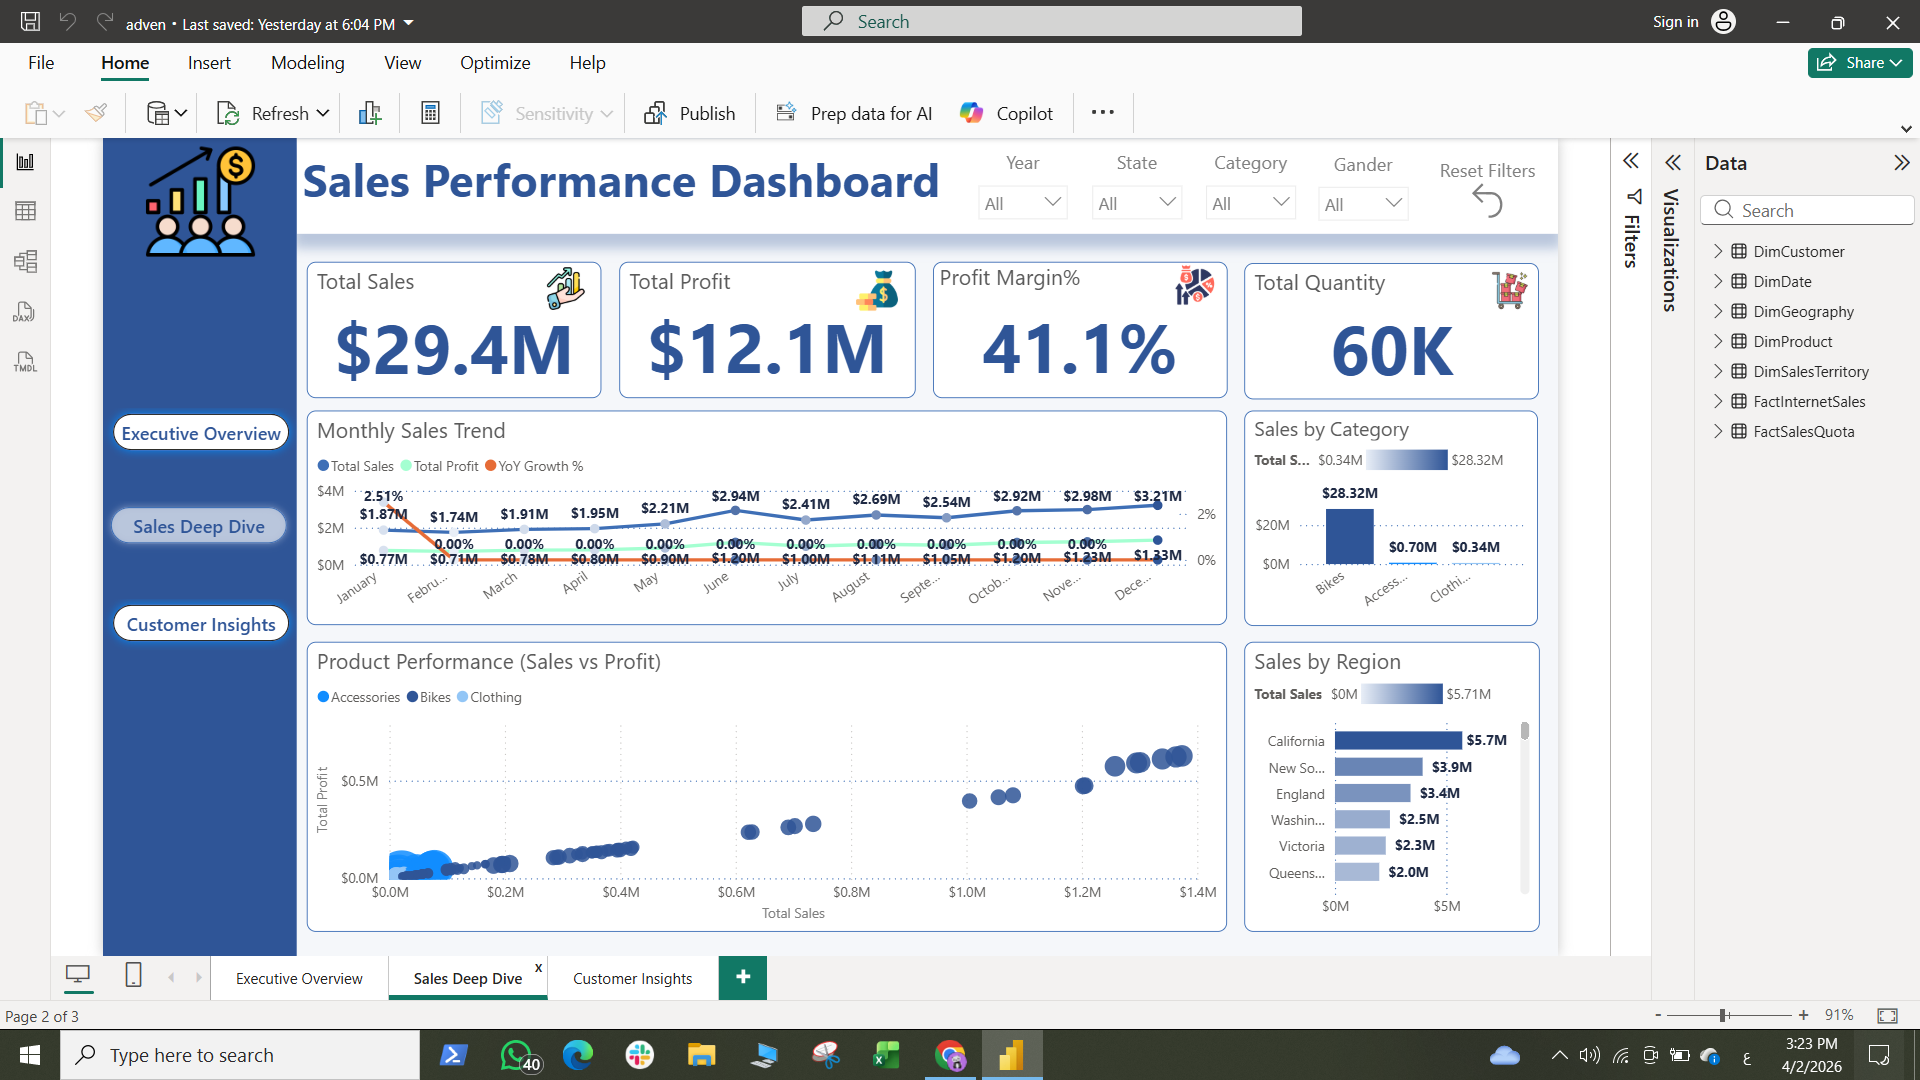

The page's visual inventory and layout, read from the dashboard file:
{"tool":"powerbi","page":{"name":"Sales Deep Dive","canvas":[1280,720],"ordinal":1},"visuals":[{"type":"card","title":"Total Sales","fields":{"Values":["Sum(FactInternetSales.TotalSales)"]},"box":[179,109,259.5,120.2],"z":0},{"type":"card","title":"Total Profit","fields":{"Values":["FactInternetSales.Total Profit"]},"box":[454,109.3,260.6,120.1],"z":1000},{"type":"card","title":"Profit Margin%","fields":{"Values":["FactInternetSales.Profit Margin %"]},"box":[730,109.3,259.4,120.1],"z":2000},{"type":"card","title":"Total Quantity","fields":{"Values":["Sum(FactInternetSales.Order Quantity)"]},"box":[1004,109.5,259.5,120.2],"z":3000},{"type":"columnChart","title":"Sales by Category","fields":{"Category":["DimProduct.CategoryName"],"Y":["FactInternetSales.Total Sales"]},"box":[1003.6,239.3,258.3,189.3],"z":4000},{"type":"lineChart","title":"Monthly Sales Trend","fields":{"Y":["FactInternetSales.Total Sales","FactInternetSales.Total Profit"],"Category":["DimDate.Month Name"],"Y2":["FactInternetSales.YoY Growth %"]},"box":[179.1,239.6,809.5,188.8],"z":5000},{"type":"textbox","title":"Sales Performance Dashboard","box":[170.2,1.2,1109.5,83.3],"z":6000},{"type":"shape","box":[0,0,170.5,720.5],"z":7000},{"type":"image","box":[15.5,1.2,140.5,109.5],"z":8000},{"type":"image","box":[369.8,109.3,75,47],"z":9000},{"type":"image","box":[642.9,110.7,75,46.4],"z":10000},{"type":"image","box":[928.6,106,75,46.4],"z":11000},{"type":"image","box":[1204.8,110.7,75,46.4],"z":12000},{"type":"barChart","title":"Sales by Region","fields":{"Y":["FactInternetSales.Total Sales"],"Category":["DimGeography.StateProvinceName"]},"box":[1004.4,442.9,260.2,255.3],"z":13000},{"type":"scatterChart","title":"Product Performance (Sales vs Profit)","fields":{"X":["FactInternetSales.Total Sales"],"Y":["FactInternetSales.Total Profit"],"Series":["DimProduct.CategoryName"],"Size":["FactInternetSales.Total Quantity"],"Category":["DimProduct.ProductName"]},"box":[179.1,442.9,809.5,255.3],"z":14000},{"type":"slicer","title":"Year","fields":{"Values":["DimDate.Year"]},"box":[760.2,9.6,98.8,67.2],"z":15000},{"type":"slicer","title":"State","fields":{"Values":["DimGeography.StateProvinceName"]},"box":[859.7,9.6,99.7,66],"z":16000},{"type":"slicer","title":"Category","fields":{"Values":["DimProduct.CategoryName"]},"box":[959.4,9.6,99.7,66],"z":17000},{"type":"slicer","title":"Gander ","fields":{"Values":["DimCustomer.Gender"]},"box":[1059.1,10.8,99.7,66],"z":18000},{"type":"actionButton","box":[1158.1,11.2,120.4,67],"z":19000},{"type":"pageNavigator","box":[0,229.8,178.6,228.6],"z":20000}]}

Visuals, with their boxes on the page's 1280x720 design canvas (x1, y1, x2, y2). These are canvas units, not pixel positions in the 1920x1080 screenshot, which may show the page scaled, cropped or inside an application window:
"Total Sales" card: box=[179, 109, 438, 229]
"Total Profit" card: box=[454, 109, 715, 229]
"Profit Margin%" card: box=[730, 109, 989, 229]
"Total Quantity" card: box=[1004, 110, 1264, 230]
"Sales by Category" columnChart: box=[1004, 239, 1262, 429]
"Monthly Sales Trend" lineChart: box=[179, 240, 989, 428]
"Sales Performance Dashboard" textbox: box=[170, 1, 1280, 84]
shape: box=[0, 0, 170, 720]
image: box=[16, 1, 156, 111]
image: box=[370, 109, 445, 156]
image: box=[643, 111, 718, 157]
image: box=[929, 106, 1004, 152]
image: box=[1205, 111, 1280, 157]
"Sales by Region" barChart: box=[1004, 443, 1265, 698]
"Product Performance (Sales vs Profit)" scatterChart: box=[179, 443, 989, 698]
"Year" slicer: box=[760, 10, 859, 77]
"State" slicer: box=[860, 10, 959, 76]
"Category" slicer: box=[959, 10, 1059, 76]
"Gander " slicer: box=[1059, 11, 1159, 77]
actionButton: box=[1158, 11, 1278, 78]
pageNavigator: box=[0, 230, 179, 458]
